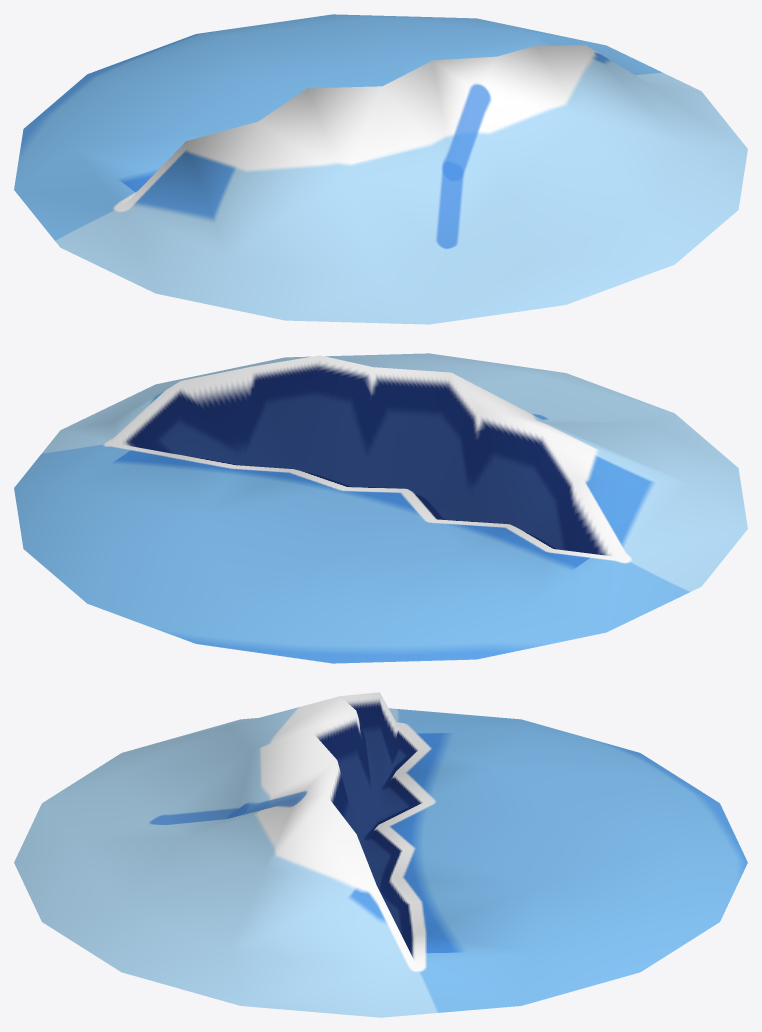
The model's file is Bubble_Popped_F.fbx.
3 views of the same model, one above another, from view 1: azimuth 30°, elevation 25°; view 2: azimuth 150°, elevation 25°; view 3: azimuth 270°, elevation 25° (orthographic).
Parts seen in each view (by area): view 1: Bubble_Popped_F; view 2: Bubble_Popped_F; view 3: Bubble_Popped_F.
Part boxes in pixels (x1=…): Bubble_Popped_F: x1=14, y1=14, x2=747, y2=324; Bubble_Popped_F: x1=14, y1=353, x2=747, y2=663; Bubble_Popped_F: x1=14, y1=692, x2=747, y2=1017.
Size of the model in its own units: 1.13 by 0.1986 by 1.13.
1 material, 1 textured.
